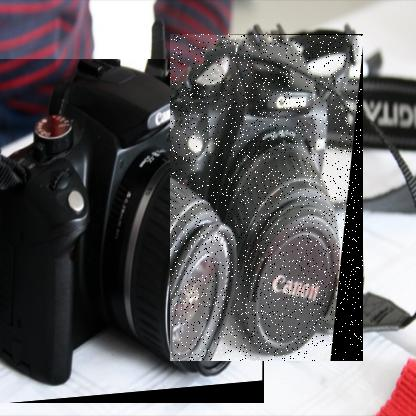Camera: (1, 60, 266, 405), (171, 35, 365, 363)
